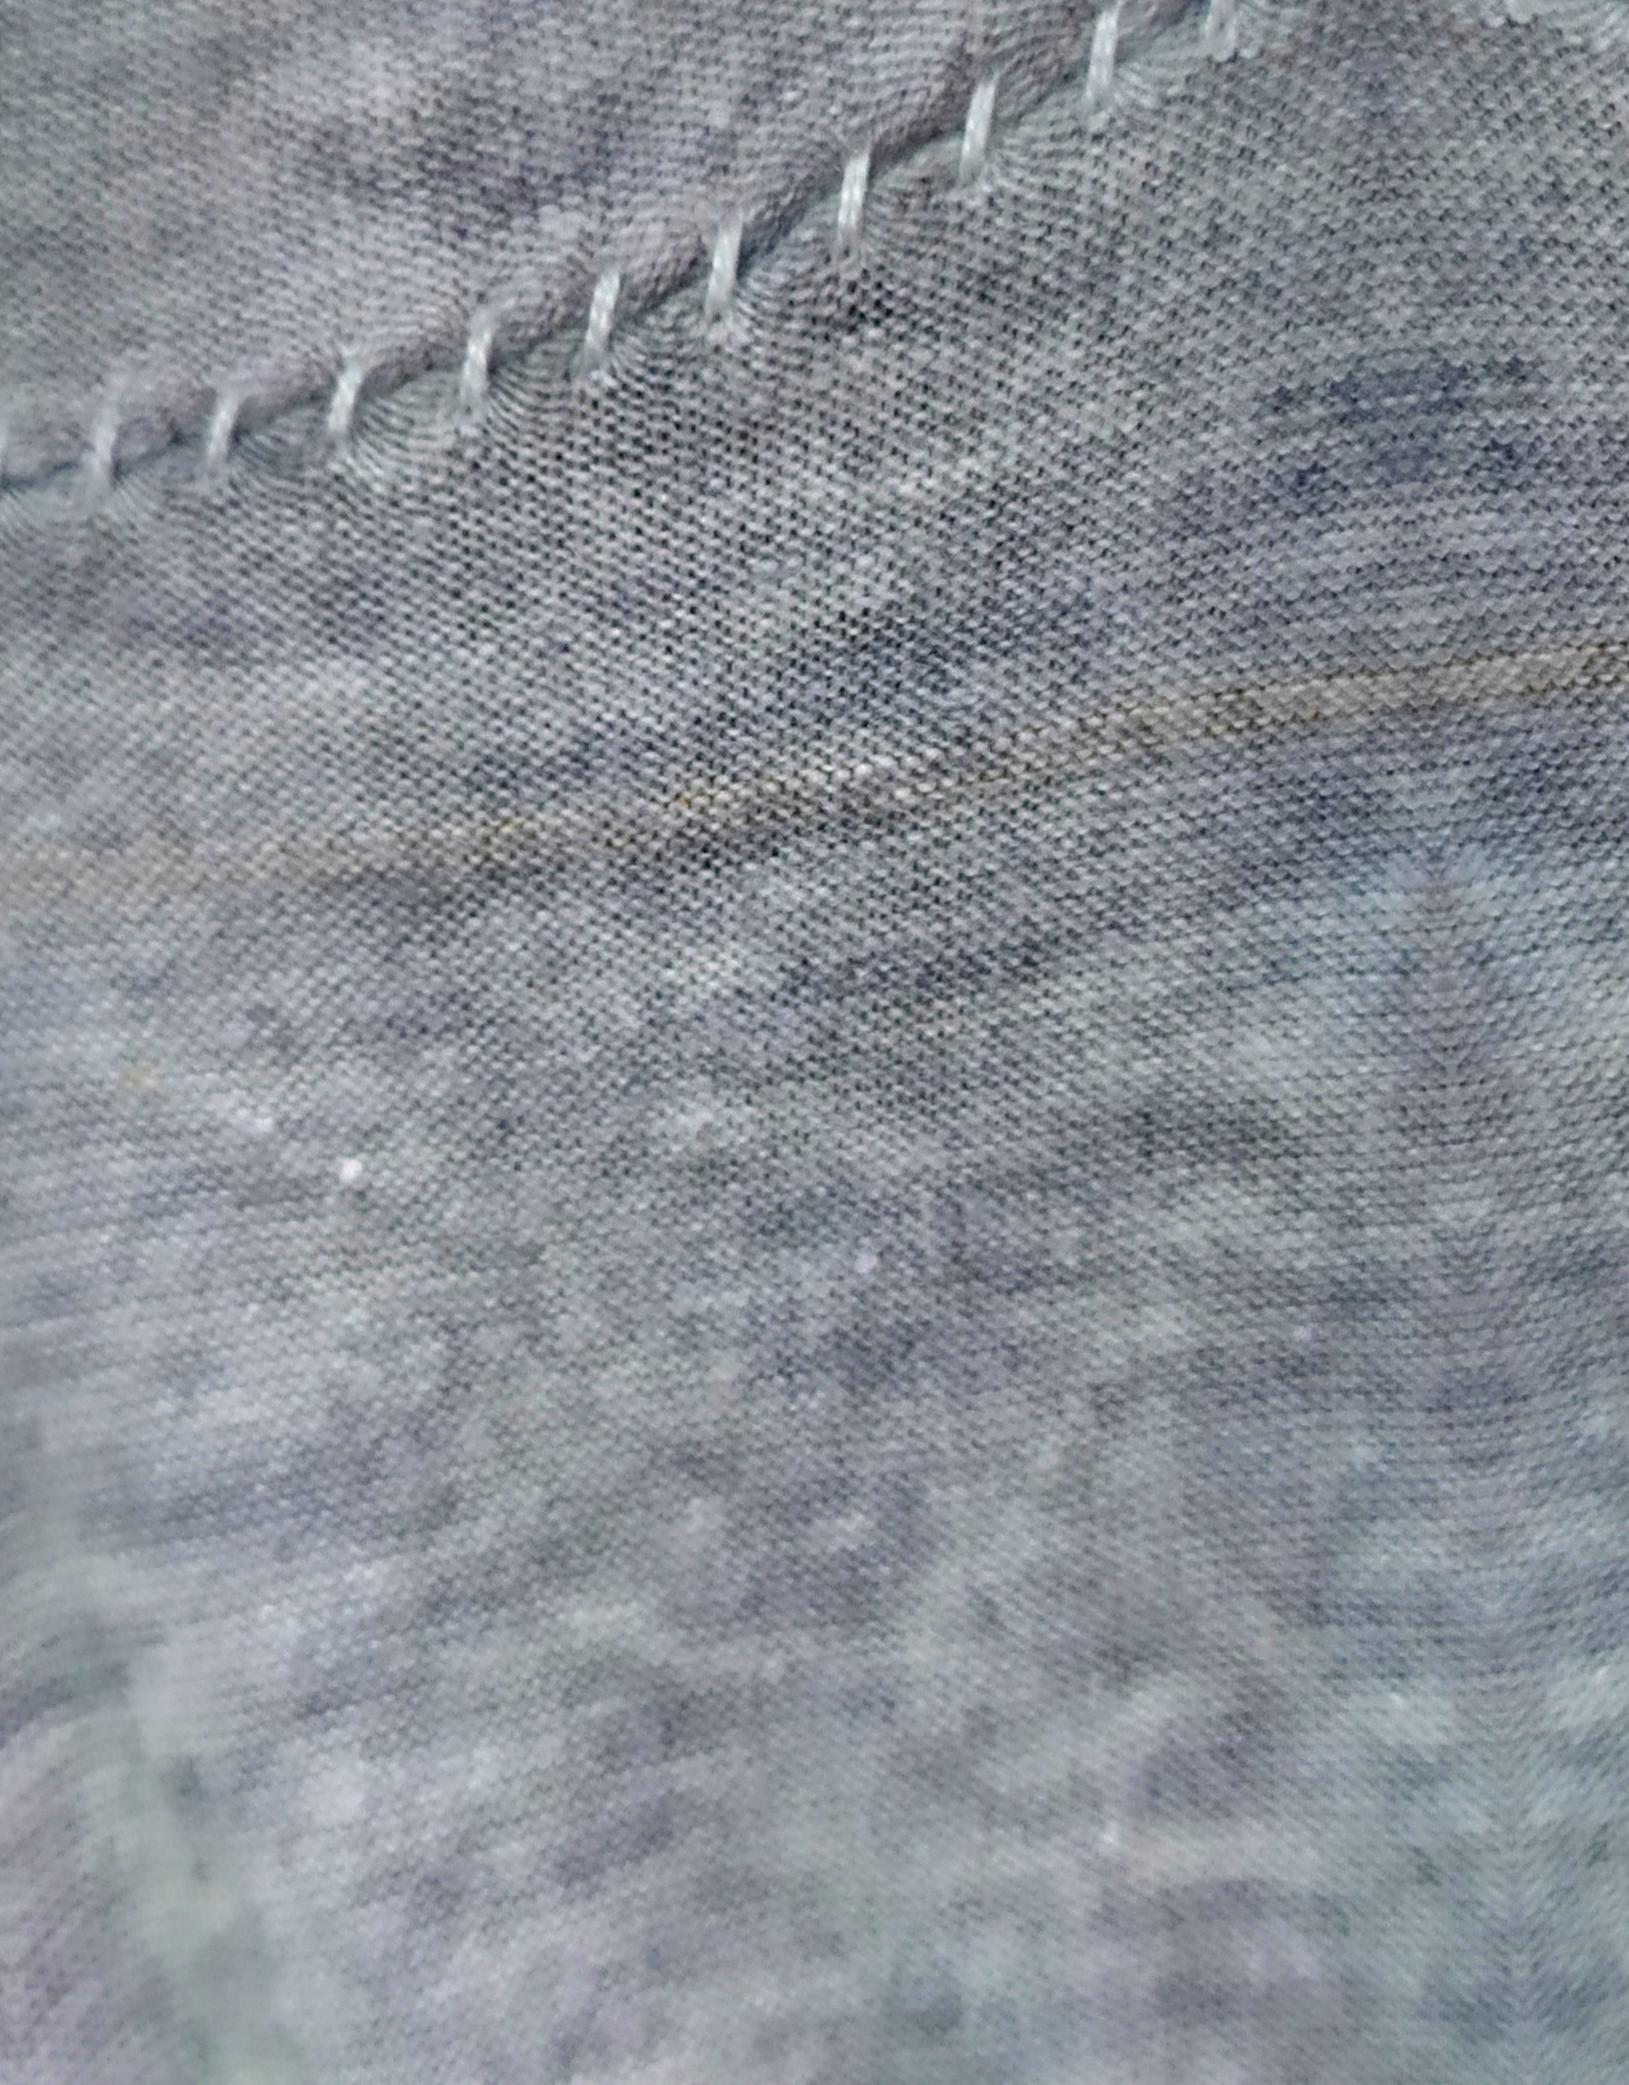slub: (0, 5, 1255, 608)
